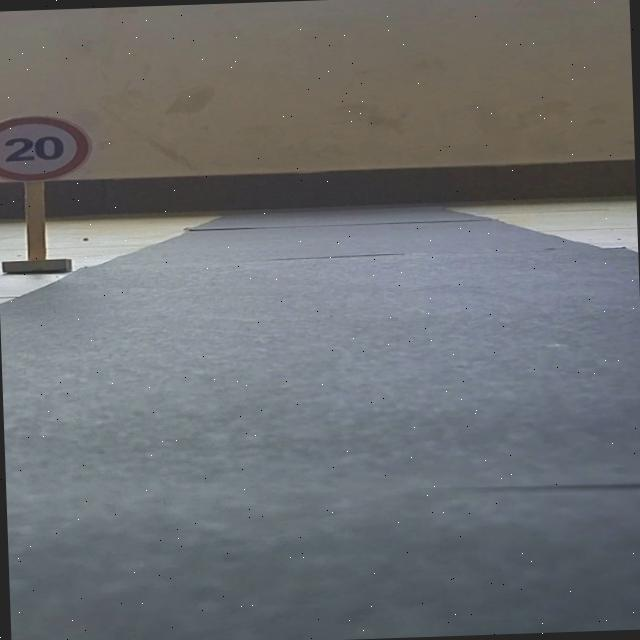Speed20: (0, 107, 105, 187)
